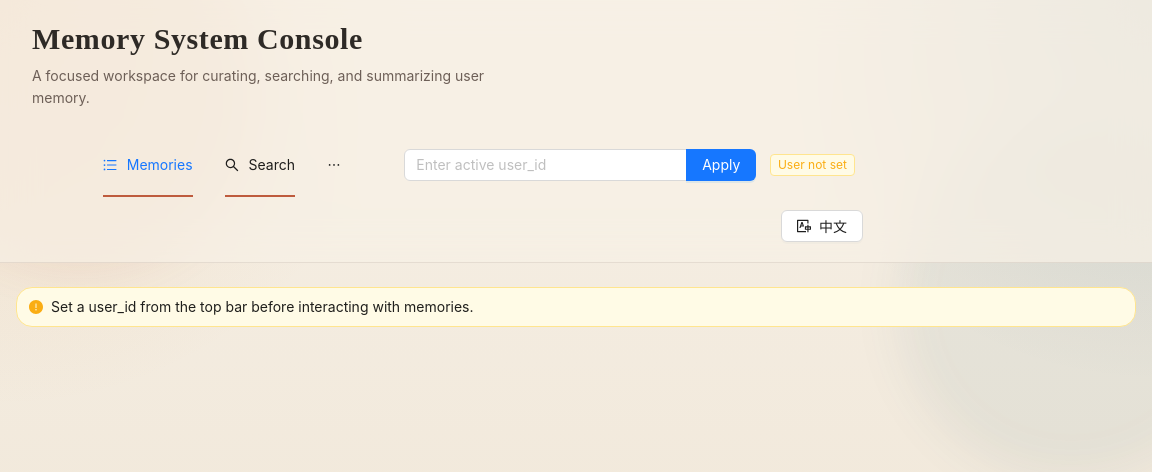
Test case: AppShell – language toggle button › switches UI back to English after two toggle clicks
What coordinates should you click on to do the following:
click the button "中文"
I would click on:
 (822, 226)
Its box is [781,210,863,242].
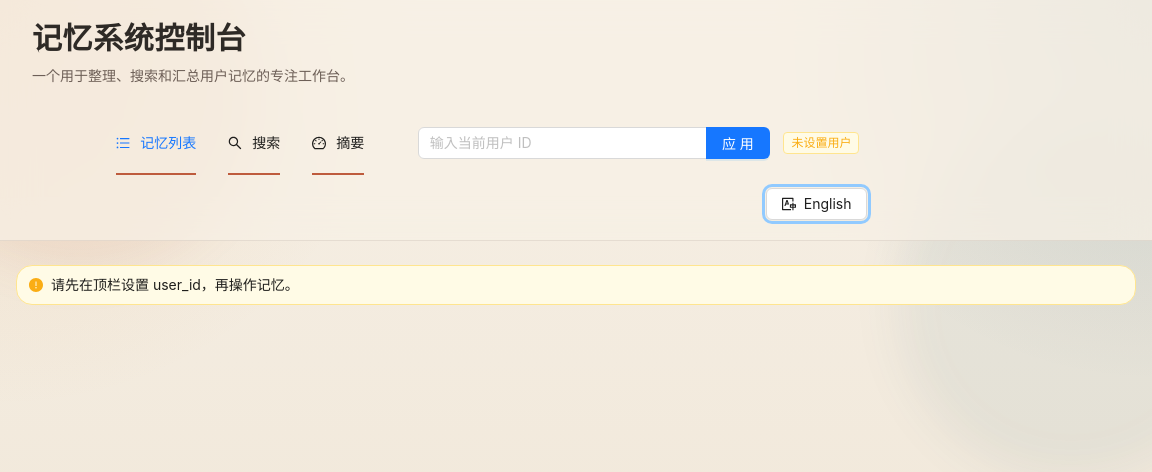
What coordinates should you click on to do the following:
click the button "English"
I would click on:
 (817, 204)
Its box is [766,188,867,220].
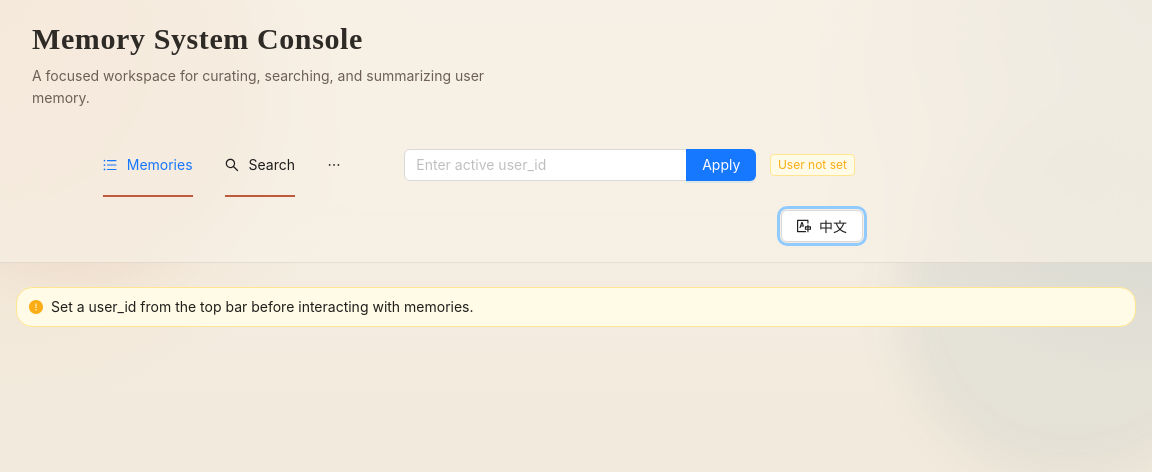
expect the button "中文" is shown: met, box [781,210,863,242]
expect the text "Memories" is shown: met, box [127,156,192,173]
